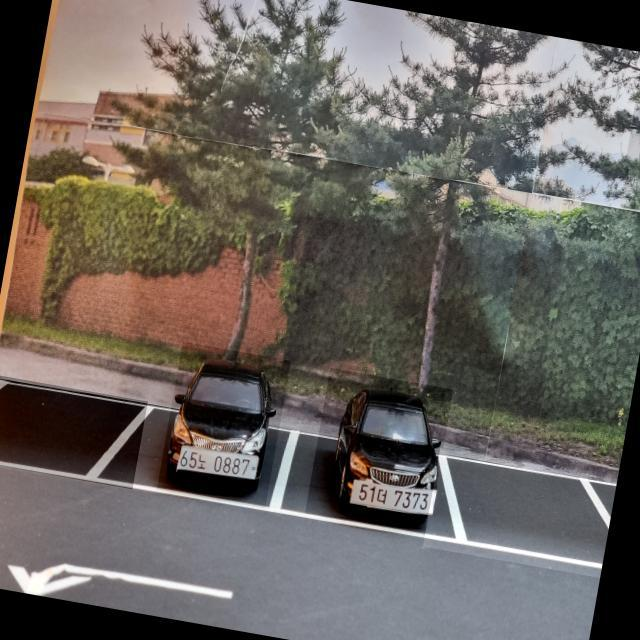empty: (422, 448, 617, 578), (0, 373, 147, 489)
occupied: (304, 367, 453, 535), (156, 342, 291, 508)
